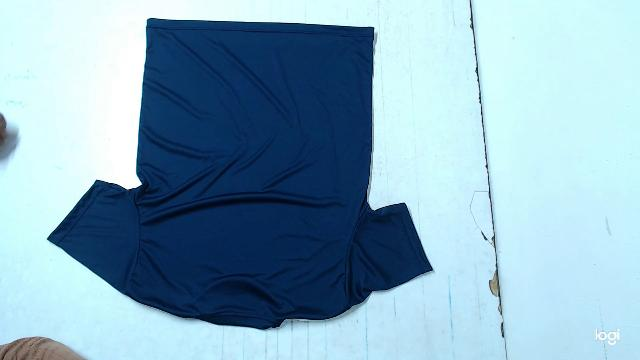new-garment: (47, 18, 432, 329)
